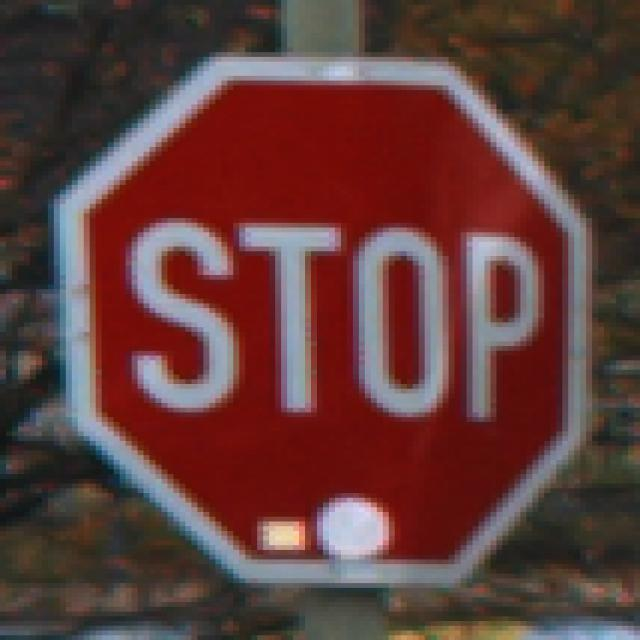STOP: (55, 58, 581, 589)
